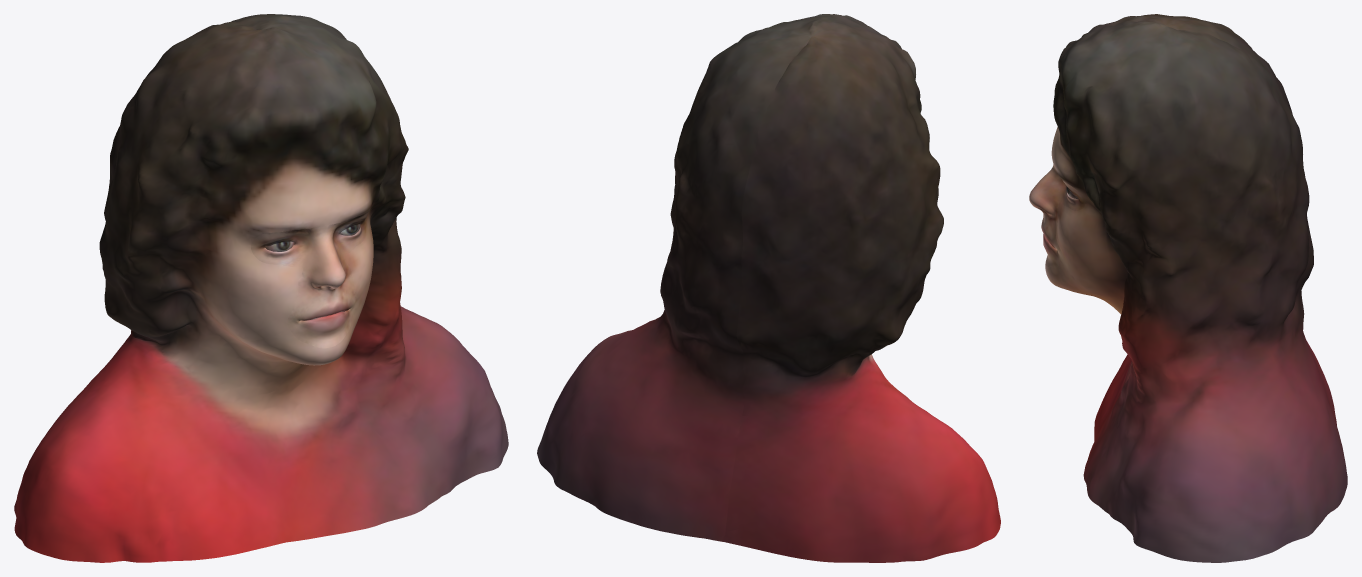
Rendered from BetoRamos.gltf.
3 renders of one model, left to right at view 1: azimuth 30°, elevation 25°; view 2: azimuth 150°, elevation 25°; view 3: azimuth 270°, elevation 25°, orthographic. The views are drawn at different scales.
Visible parts, largest first — view 1: BetoRamos; view 2: BetoRamos; view 3: BetoRamos.
Boxes of the visible parts, <box> form: BetoRamos: <box>14,14,508,562</box>; BetoRamos: <box>537,14,1000,562</box>; BetoRamos: <box>1029,14,1347,562</box>.
Bounding box in the file's own units: 9.12 × 8.85 × 5.95.
1 material, 1 textured.
